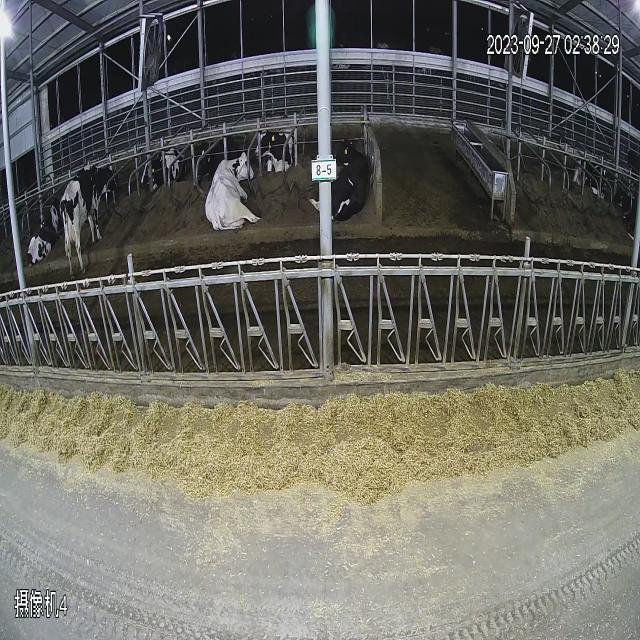lying down: (318, 130, 386, 225), (208, 147, 262, 256), (27, 190, 58, 288)
standing: (60, 160, 126, 281)
